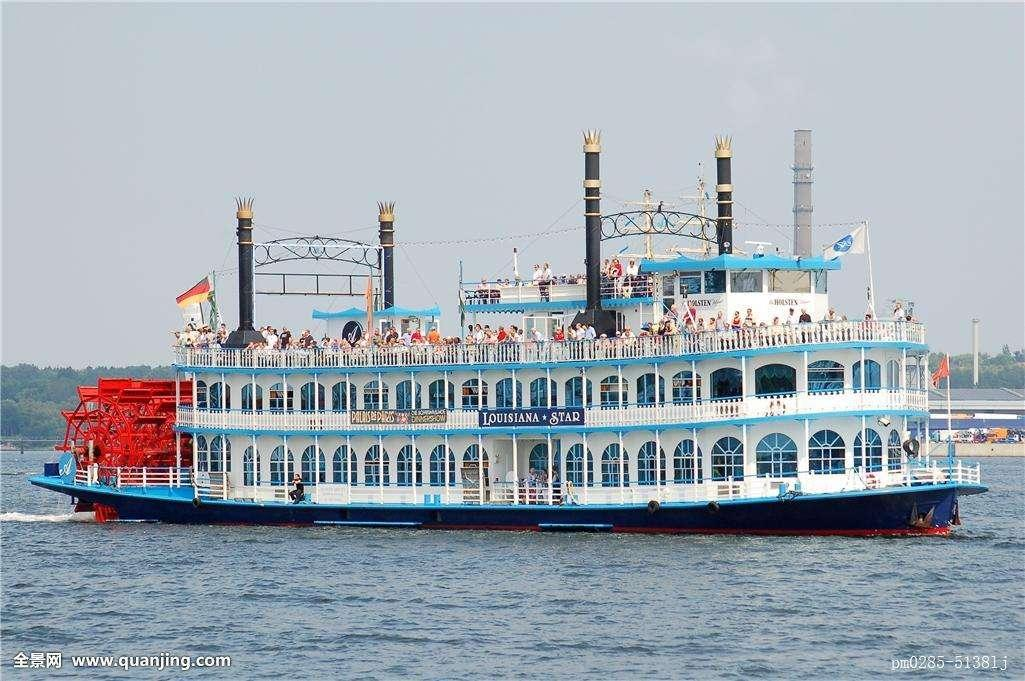youlun: (35, 126, 981, 539)
